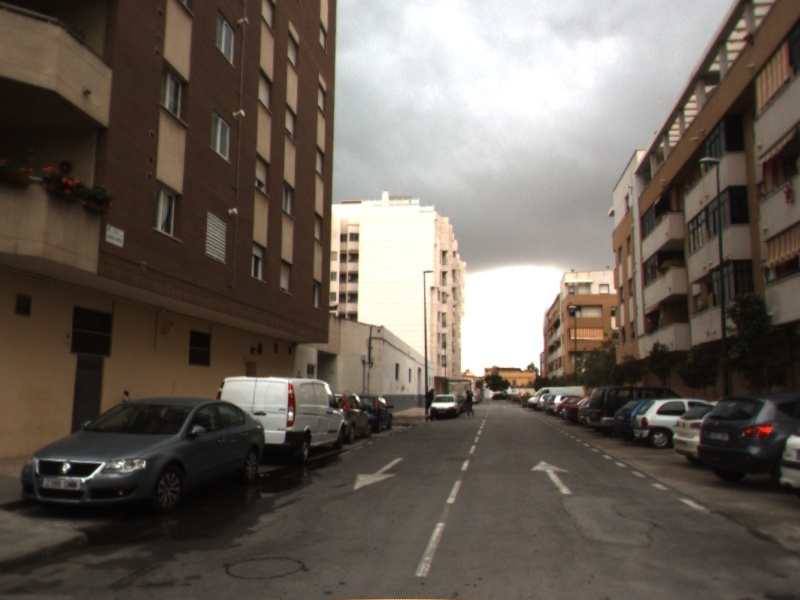STRAIGHT: (528, 458, 575, 496)
